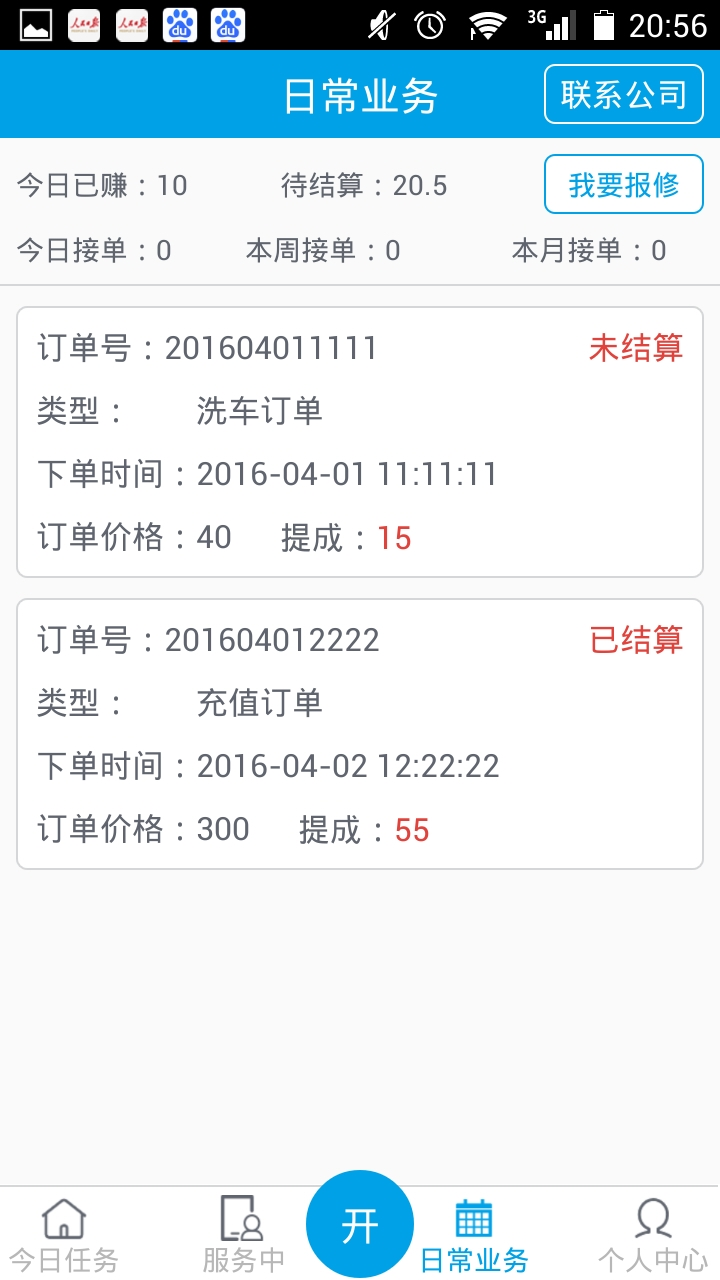button: (533, 148, 710, 227), (539, 57, 709, 130)
nav: (2, 1176, 720, 1275)
textview: (13, 300, 716, 584), (14, 594, 709, 879)
